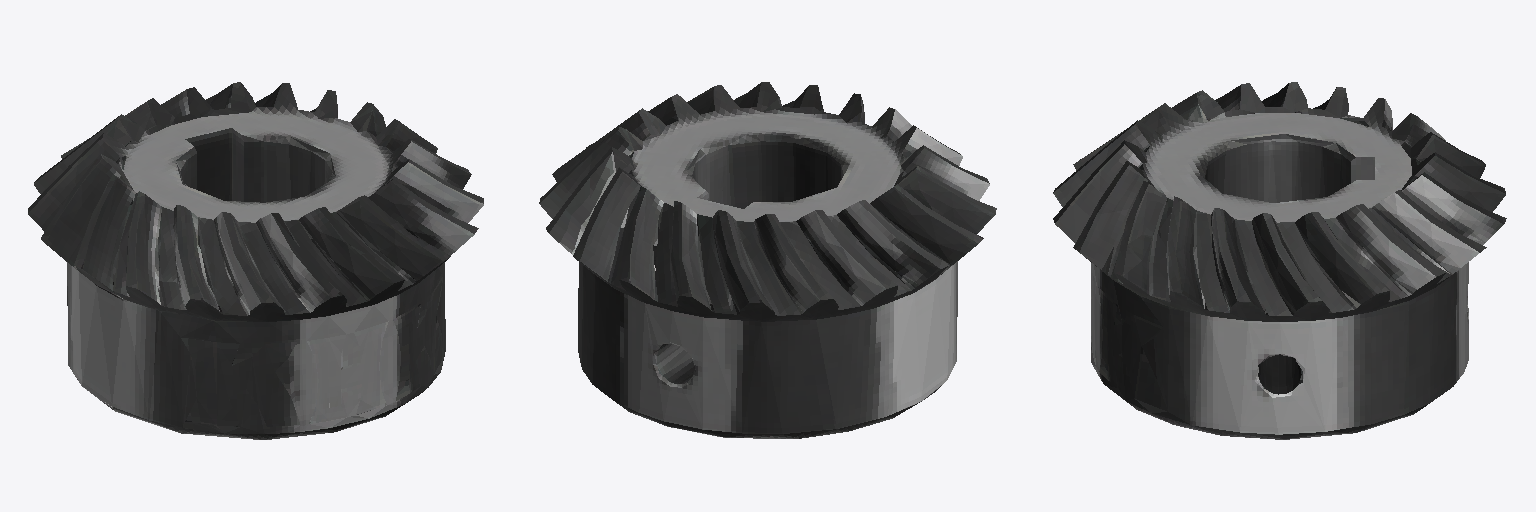
3 views of the same model, side by side, from view 1: azimuth 30°, elevation 25°; view 2: azimuth 150°, elevation 25°; view 3: azimuth 270°, elevation 25° (orthographic).
Parts seen in each view (by area): view 1: KHK_US-MMSA2-20L; view 2: KHK_US-MMSA2-20L; view 3: KHK_US-MMSA2-20L.
Boxes of the visible parts, x1=… form: KHK_US-MMSA2-20L: x1=28, y1=82, x2=483, y2=439; KHK_US-MMSA2-20L: x1=539, y1=82, x2=996, y2=438; KHK_US-MMSA2-20L: x1=1053, y1=82, x2=1506, y2=439.
Bounding box in the file's own units: 0.0651 × 0.0344 × 0.0651.
Materials: 1 (1 with a texture image).